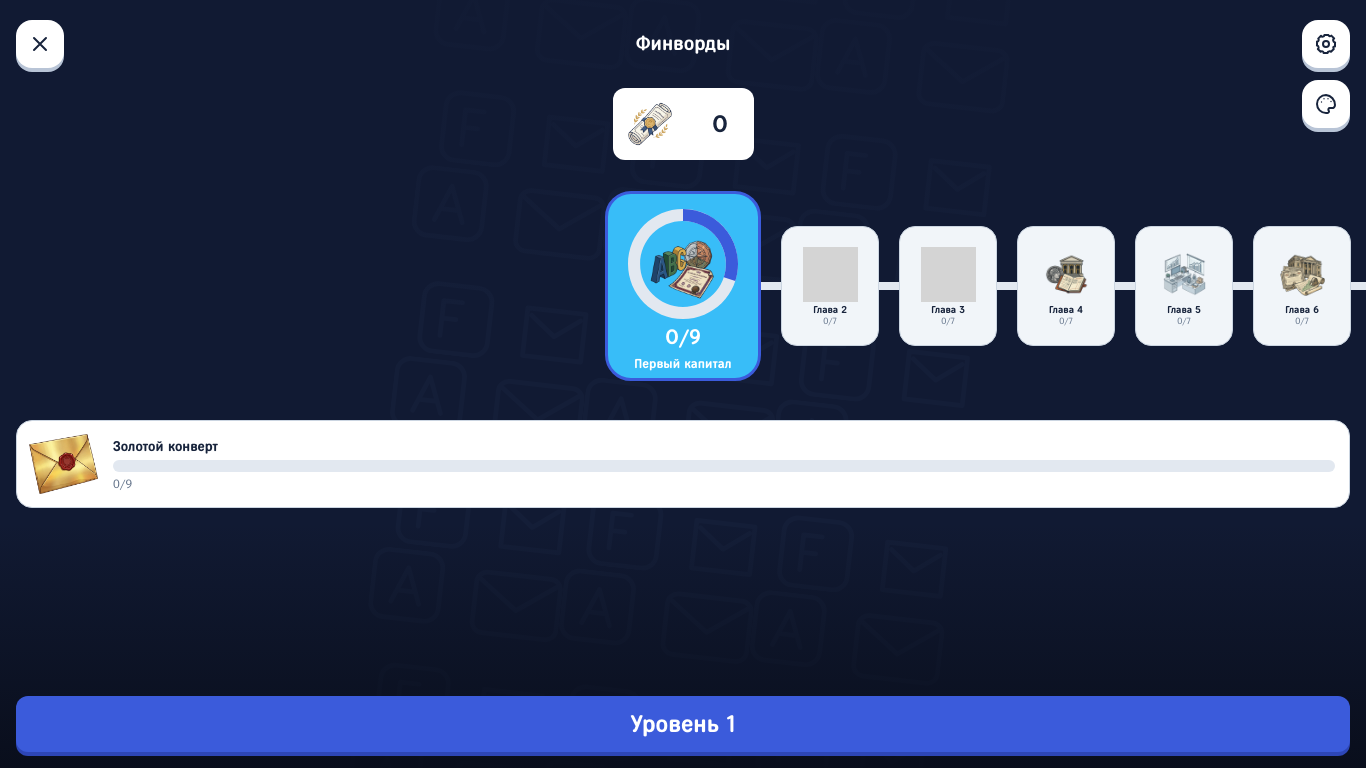
it: P4 Results state machine › после завершения через API-006 один раз загружает API-008 и выходит из disabled game state
Click the button "Уровень 1" at (683, 724), box [16,696,1350,752]
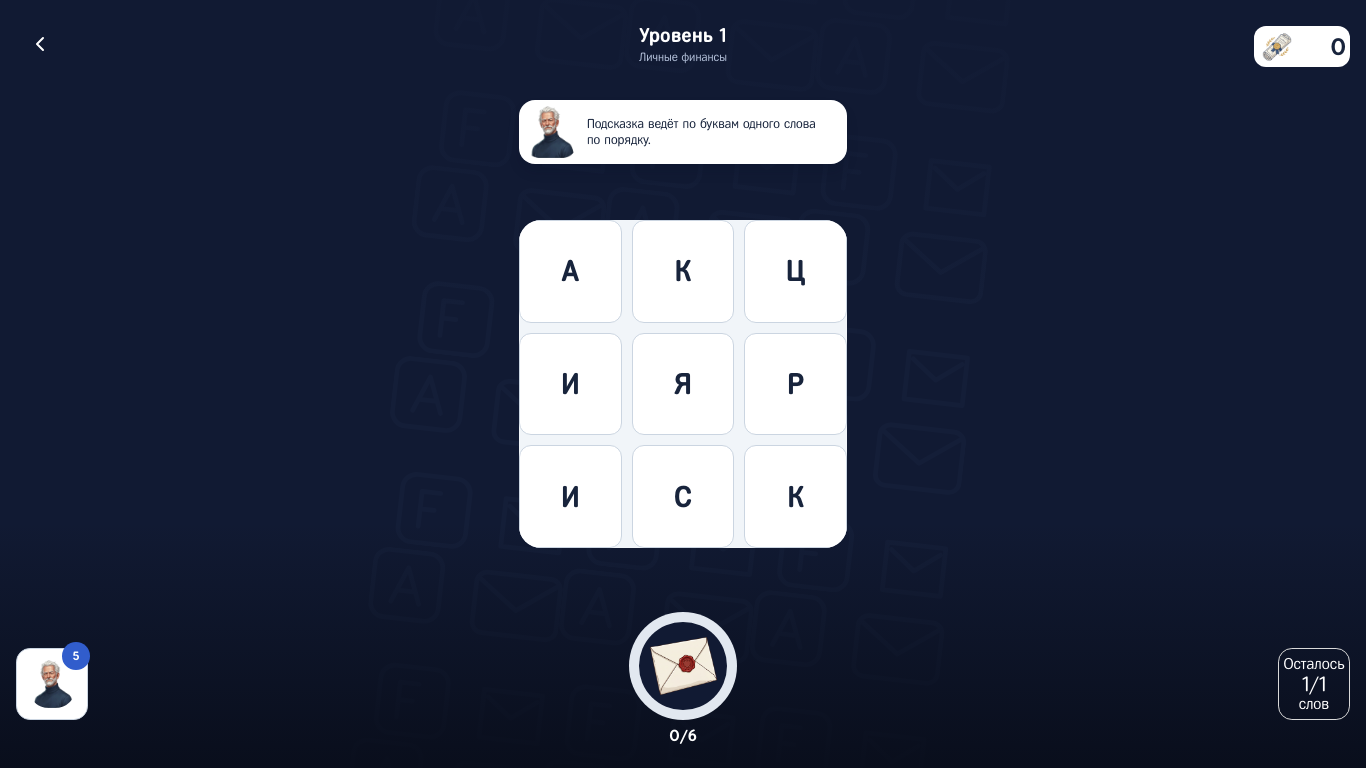
Expected: the element named "Игровой экран уровня 1" is shown
Press the mouse on the button named "А, строка 1, столбец 1" at (570, 271), box [519,220,622,323]
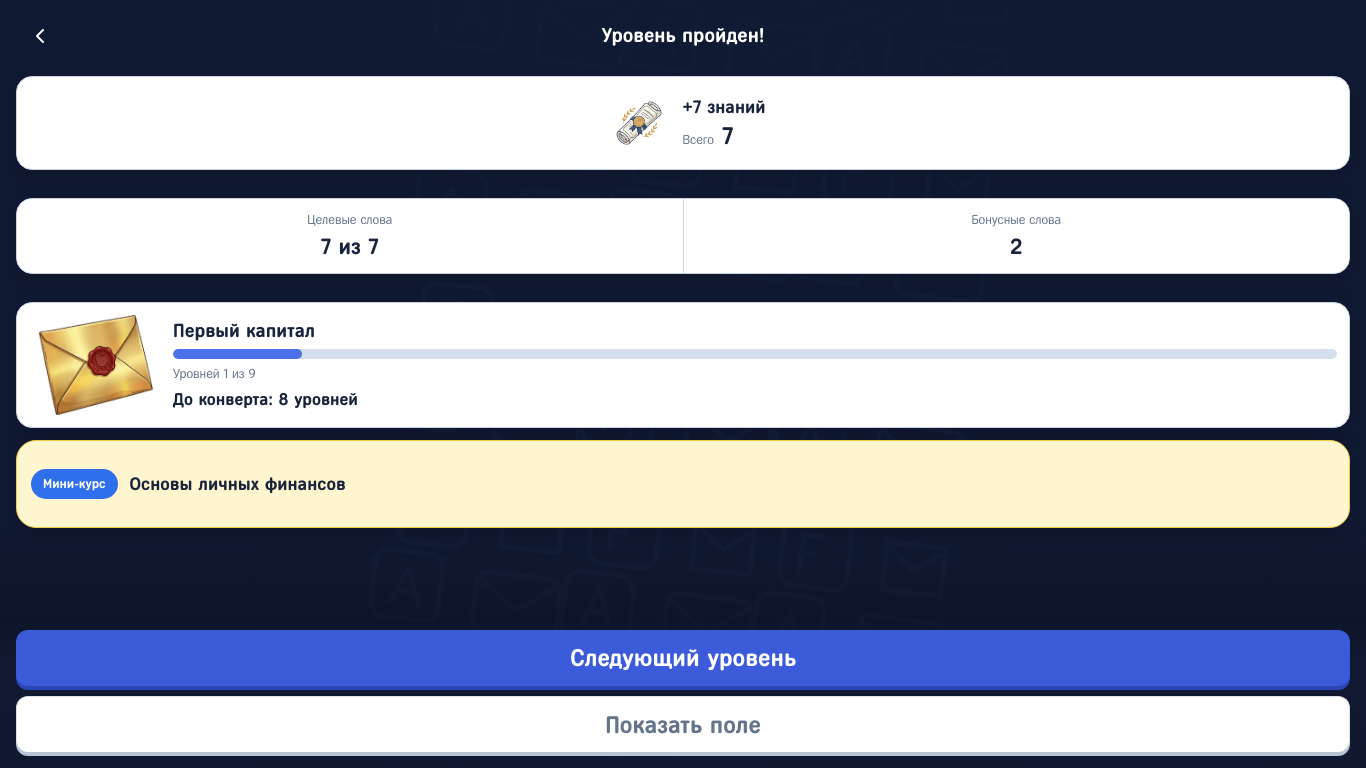
Expected: the heading "Уровень пройден!" is shown, [602,25,764,46]
